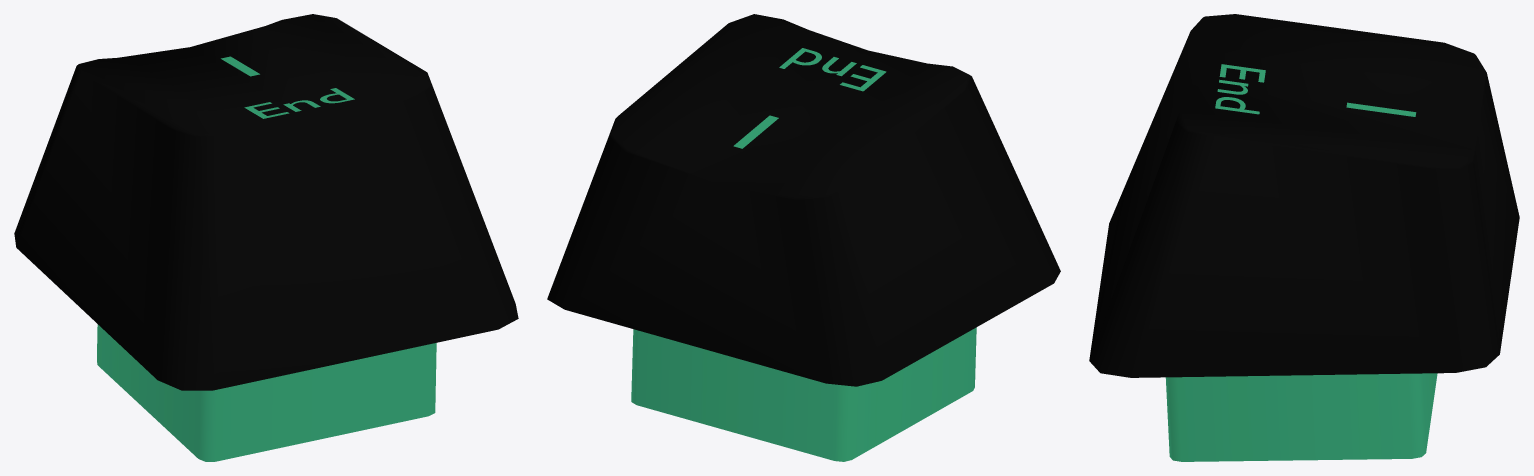
The model's file is key_1_end-Cajs9J2G.glb.
3 renders of one model, left to right at view 1: azimuth 30°, elevation 25°; view 2: azimuth 150°, elevation 25°; view 3: azimuth 270°, elevation 25°, orthographic. The views are drawn at different scales.
Parts seen in each view (by area): view 1: StudyShelf_285; view 2: StudyShelf_285; view 3: StudyShelf_285.
Part boxes in pixels (x1,y1,x2,y2): StudyShelf_285: [14, 14, 518, 461]; StudyShelf_285: [547, 14, 1060, 461]; StudyShelf_285: [1089, 14, 1519, 461].
Size of the model in its own units: 4.35 by 3.71 by 4.35.
Materials: 2 (1 with a texture image).
